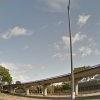Bridge: (7, 78, 93, 90)
